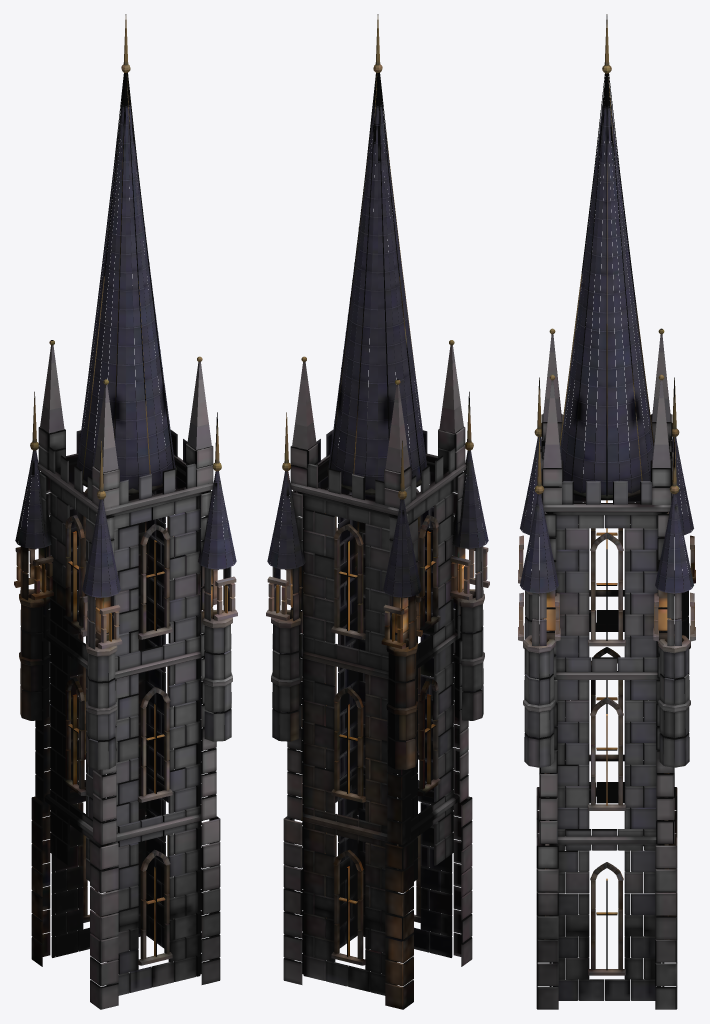
File: expand_right_tower.glb
The picture shows the model from 3 angles, left to right: view 1: azimuth 30°, elevation 25°; view 2: azimuth 150°, elevation 25°; view 3: azimuth 270°, elevation 25°; orthographic projection.
Parts seen in each view (by area): view 1: expand_right_tower_GI; view 2: expand_right_tower_GI; view 3: expand_right_tower_GI.
Boxes of the visible parts, x1,y1,x2,y2 form: expand_right_tower_GI: (14, 14, 237, 1009); expand_right_tower_GI: (266, 14, 489, 1009); expand_right_tower_GI: (518, 14, 695, 1009).
Size of the model in its own units: 7.36 by 44.99 by 7.5.
Materials: 1 (1 with a texture image).
